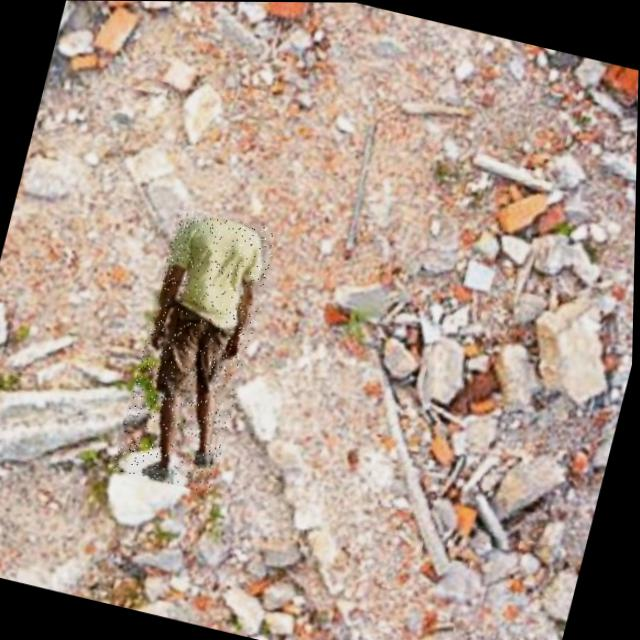Person in Rubble: (114, 206, 279, 493)
